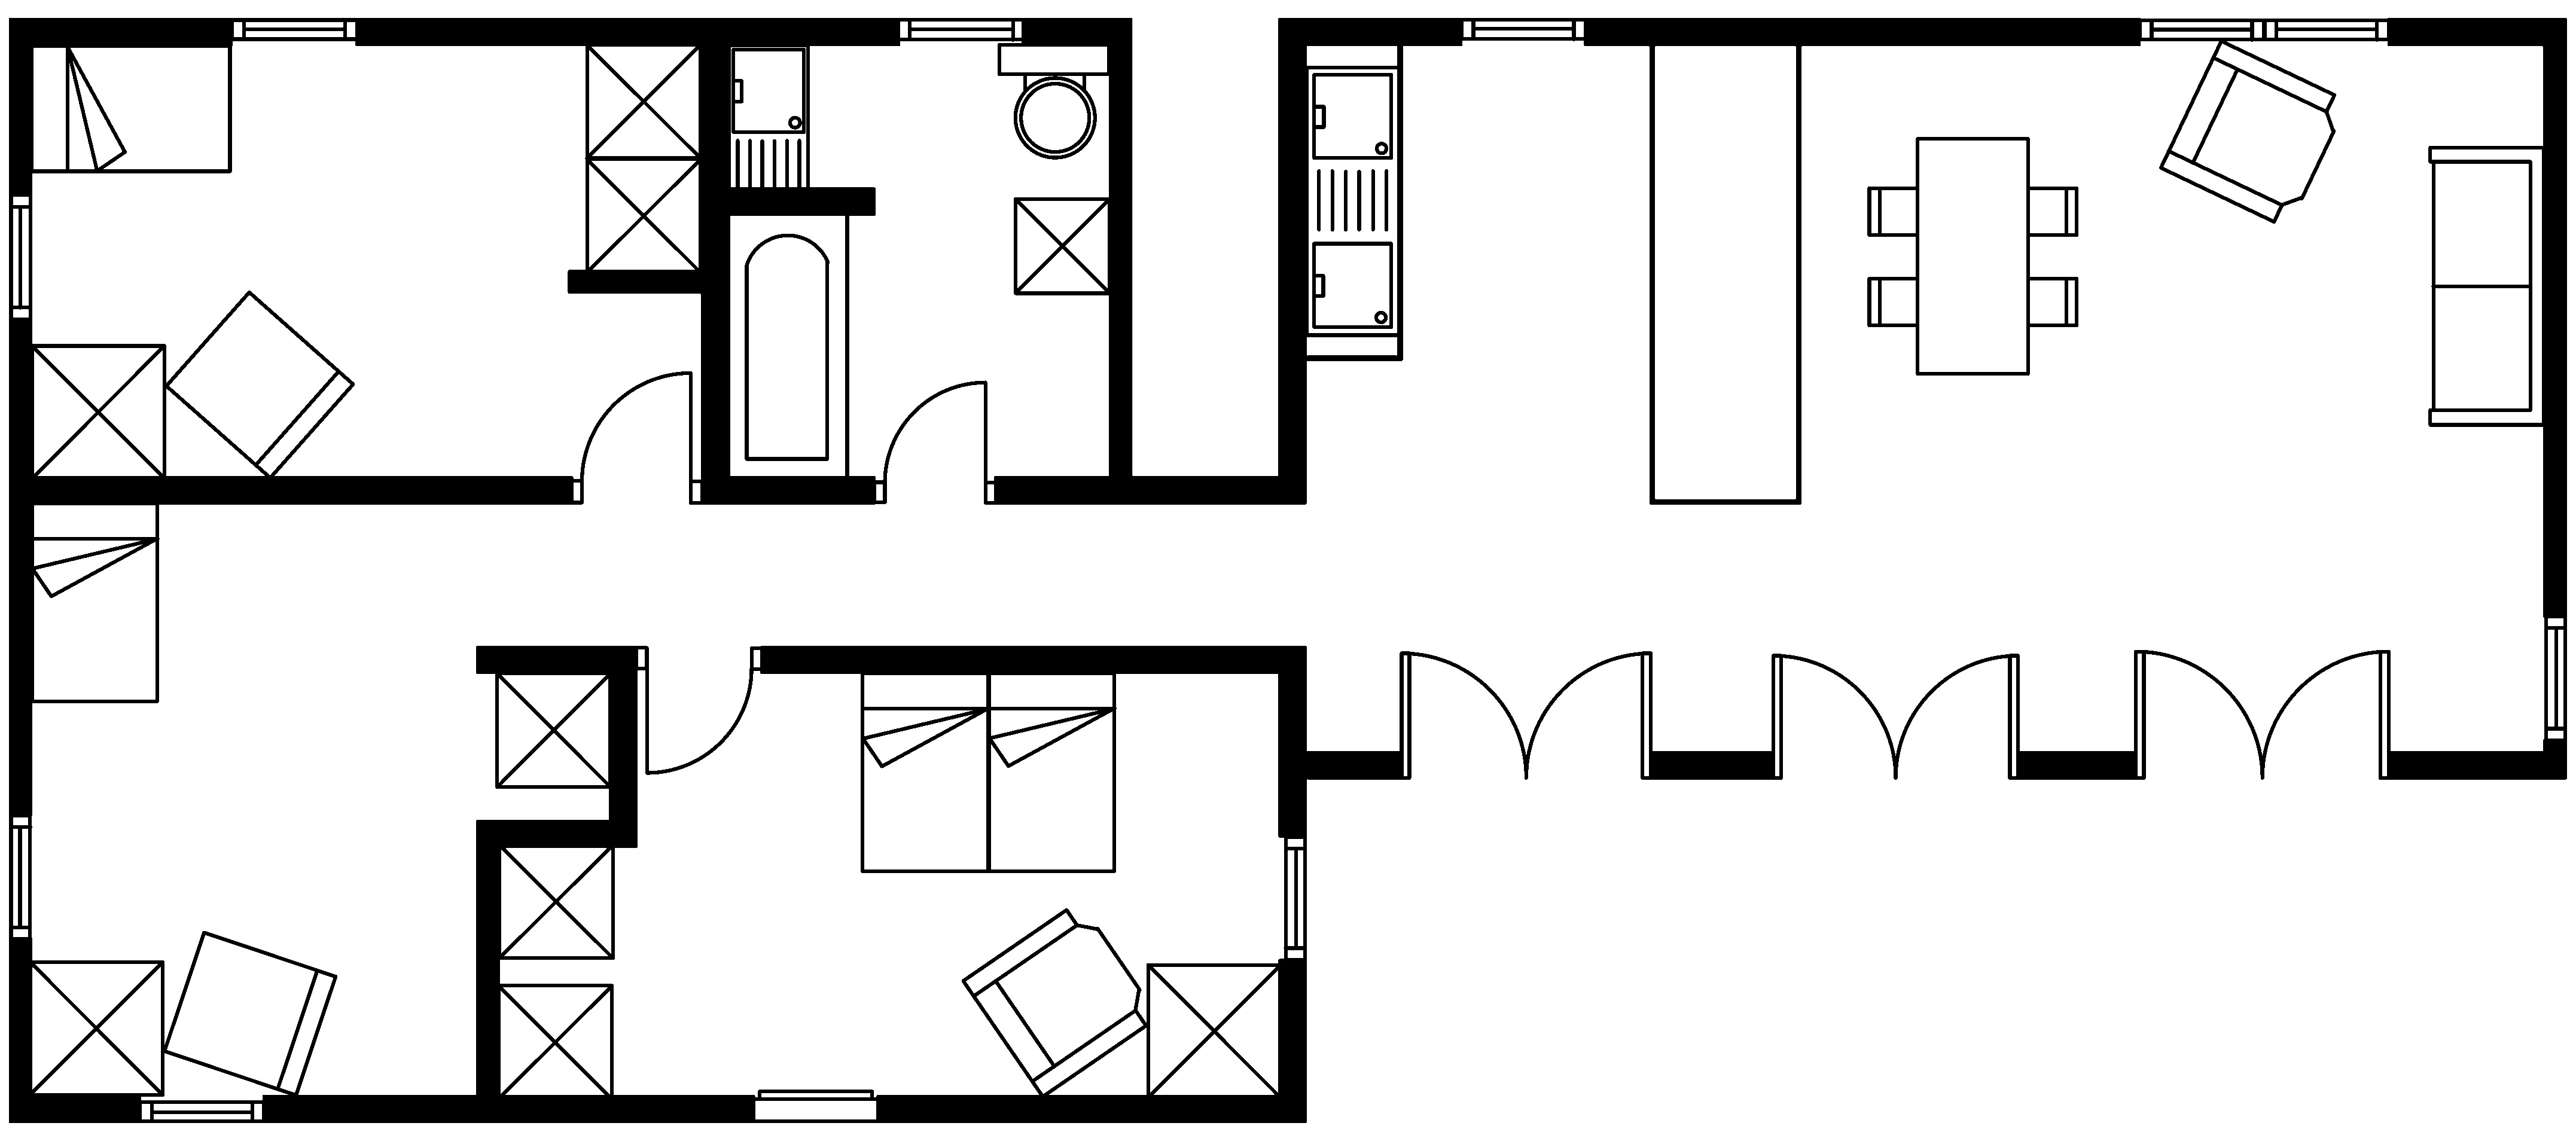armchair: (961, 907, 1148, 1099), (2159, 38, 2336, 223)
bed: (28, 501, 159, 703), (30, 43, 232, 174), (859, 670, 991, 872), (986, 670, 1117, 872)
coffee_table: (26, 959, 164, 1097), (1145, 963, 1283, 1099), (30, 343, 166, 480), (494, 982, 614, 1101), (583, 41, 702, 161), (494, 670, 613, 789), (496, 841, 614, 959), (585, 156, 702, 274), (1012, 196, 1112, 294)
dining_table: (1866, 136, 2078, 376)
large_sink: (997, 41, 1111, 158)
large_sofa: (2428, 145, 2546, 427)
sink: (726, 43, 810, 209)
small_sofa: (163, 289, 355, 480), (161, 930, 337, 1097)
tub: (726, 210, 849, 483)
twin_sink: (1304, 64, 1401, 337)
